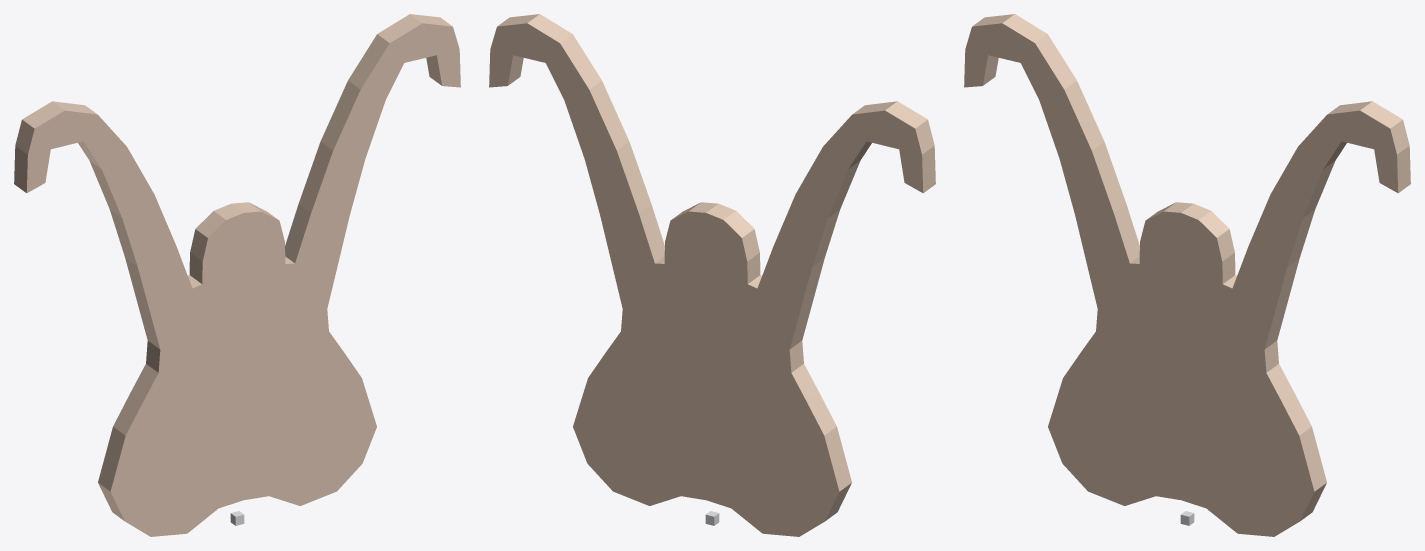
The model's file is monkey.fbx.
3 renders of one model, left to right at view 1: azimuth 30°, elevation 25°; view 2: azimuth 150°, elevation 25°; view 3: azimuth 330°, elevation 25°, orthographic.
Parts seen in each view (by area): view 1: monkey; view 2: monkey; view 3: monkey.
Part boxes in pixels (<box>): monkey: <box>14,14,460,536</box>; monkey: <box>489,14,935,536</box>; monkey: <box>964,14,1410,536</box>.
Bounding box in the file's own units: 9901 × 10041 × 500.
